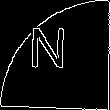N_S: (35, 29, 75, 81)
